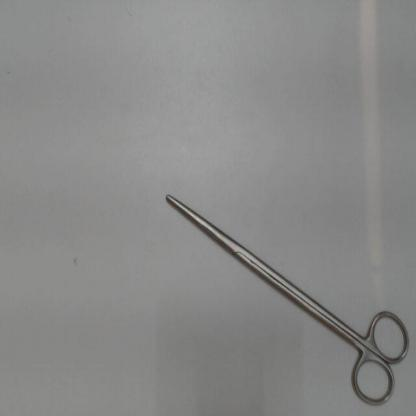9 Metzenbaum Scissors: (163, 187, 414, 410)
